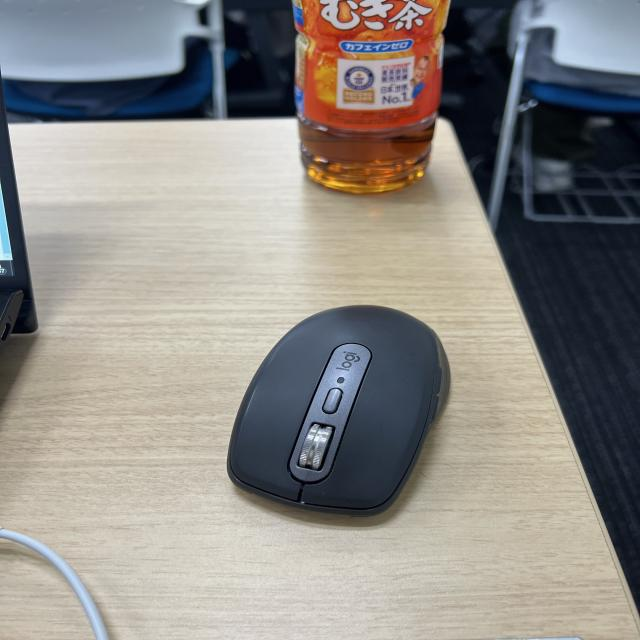mouse: (202, 301, 483, 528)
